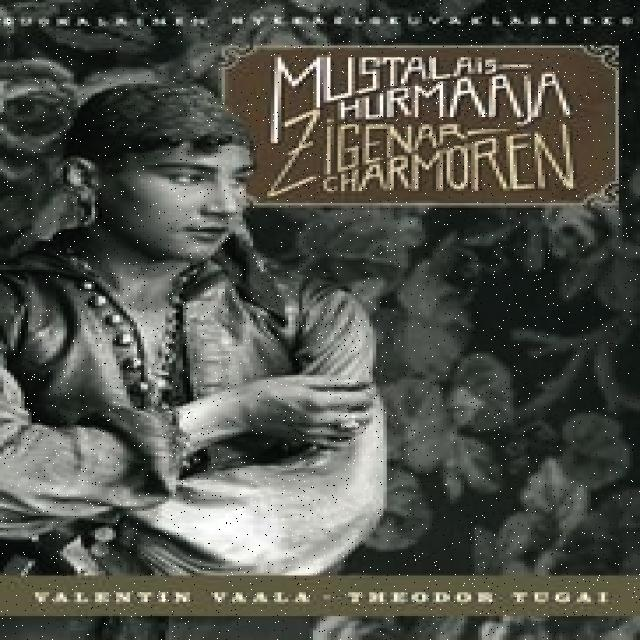movie-judul: (229, 49, 616, 204)
picture: (2, 6, 640, 634)
